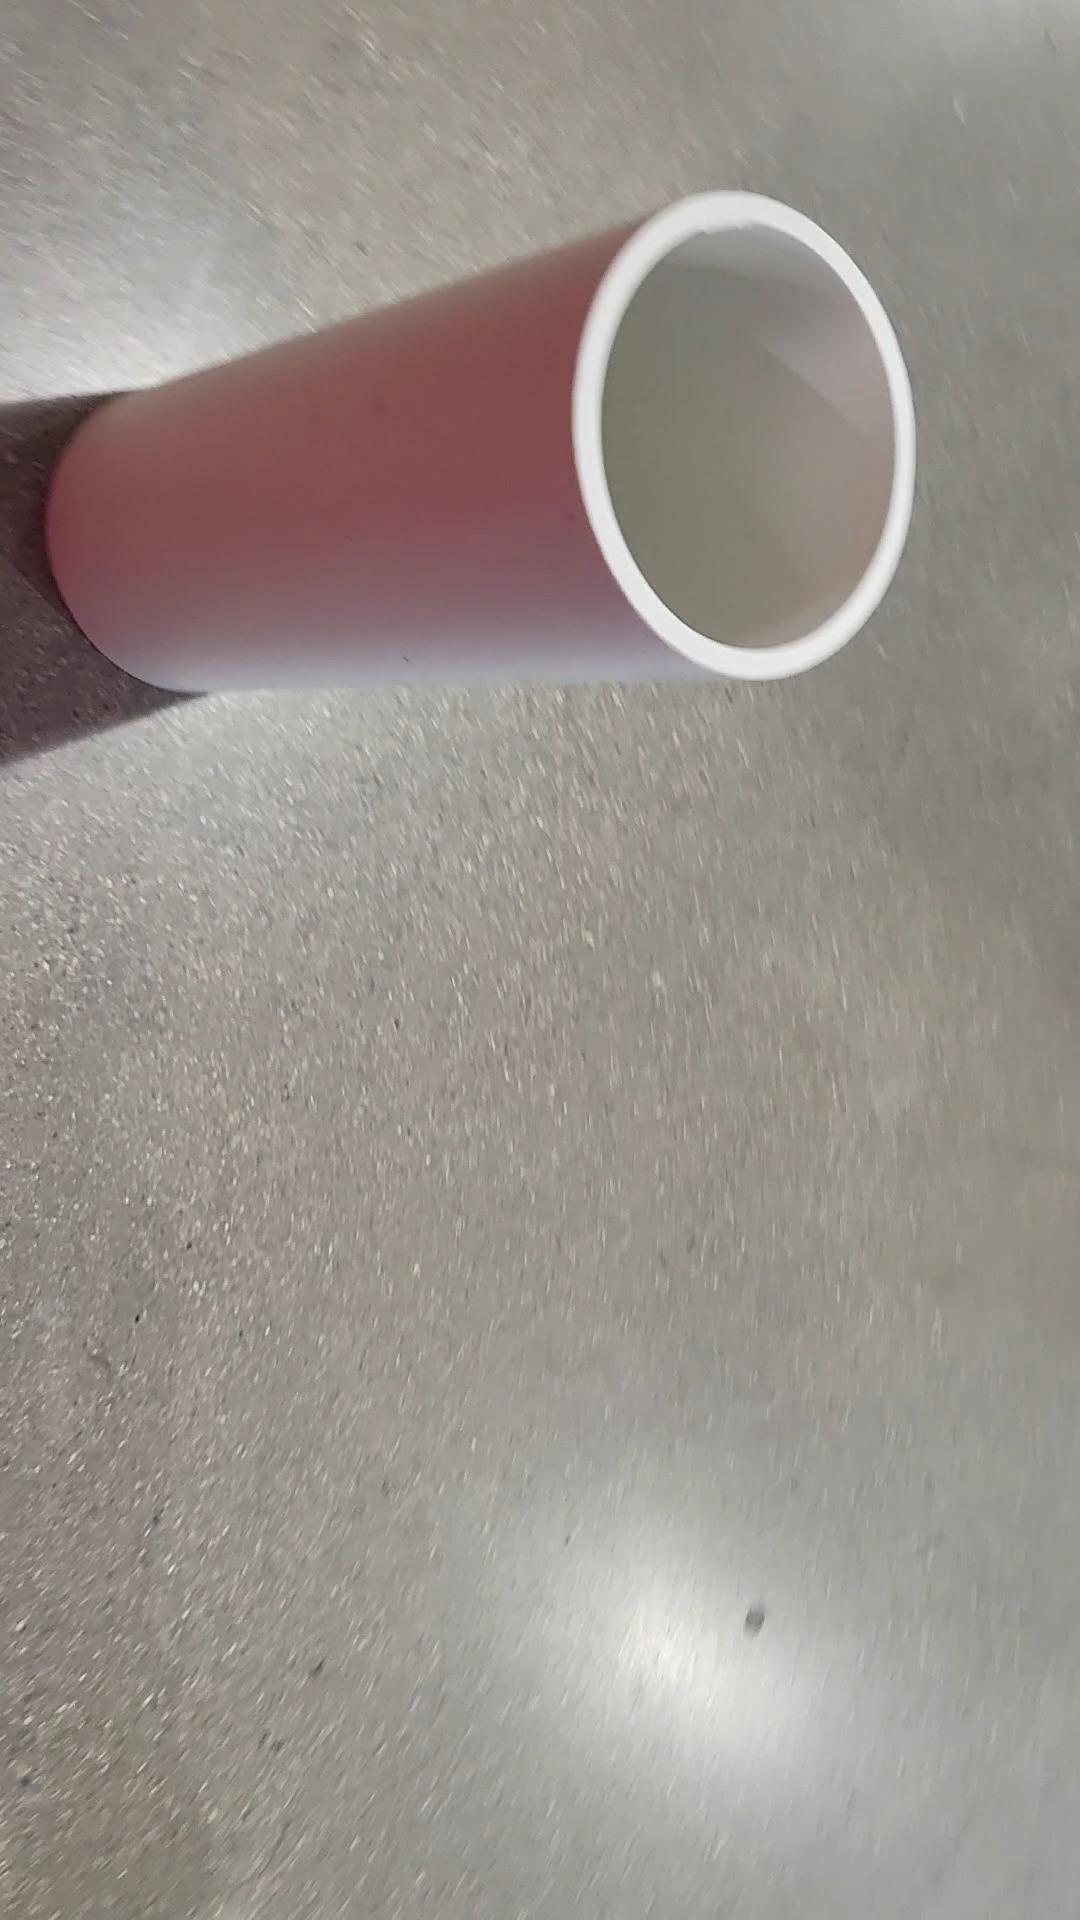coral: (50, 193, 910, 690)
